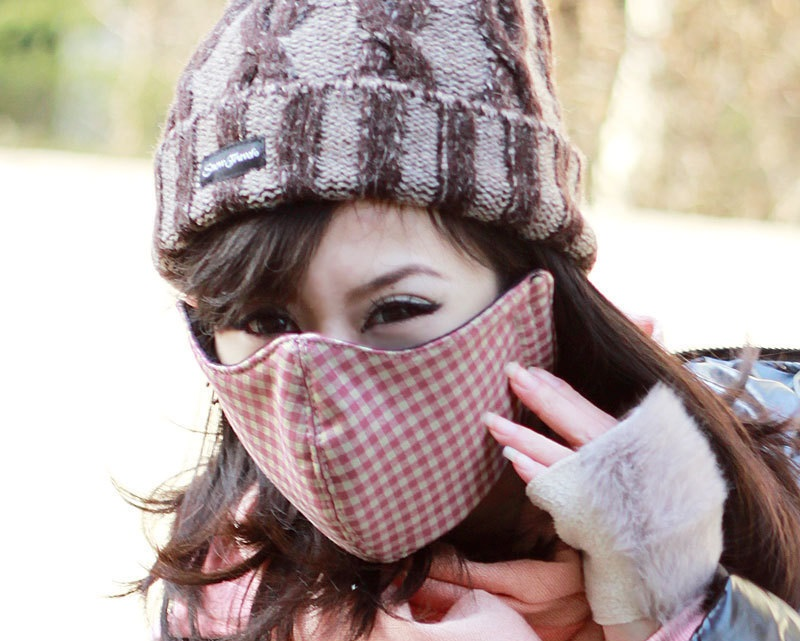face_mask: (222, 194, 503, 559)
